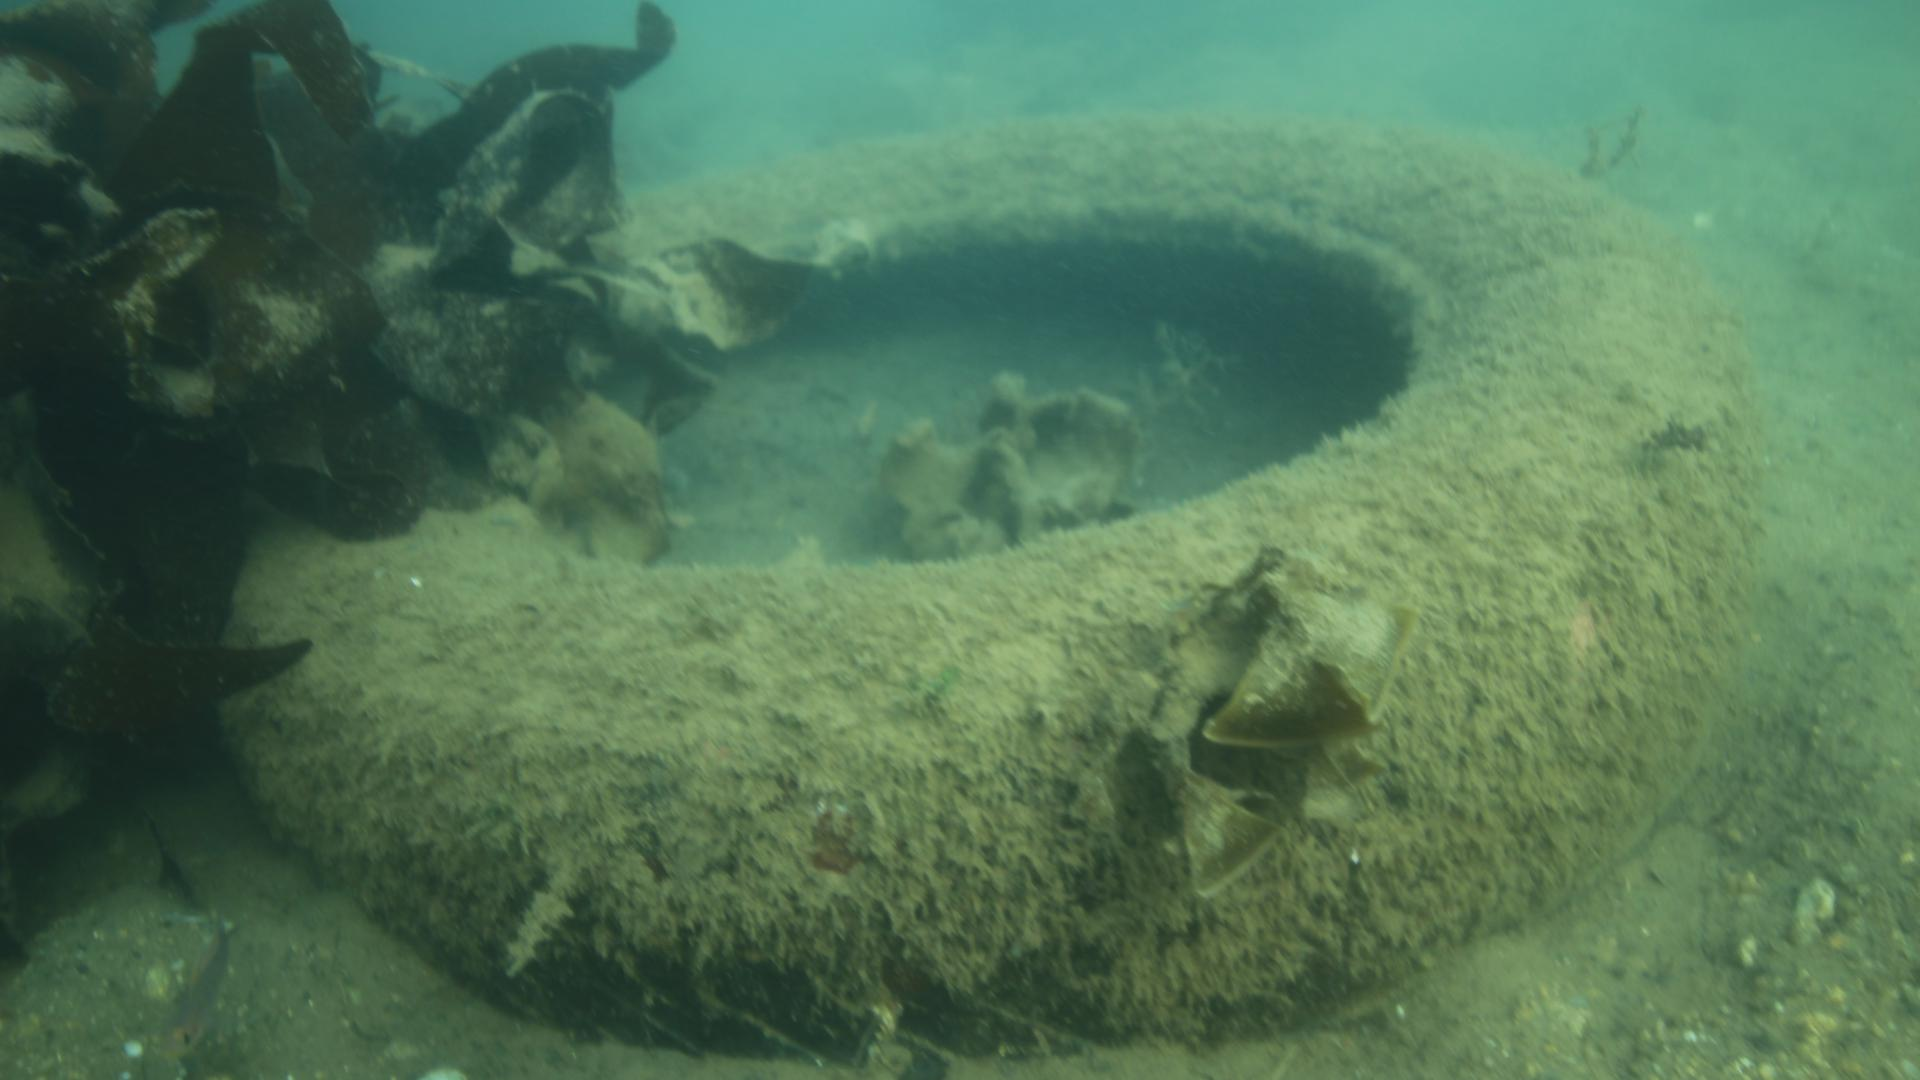tire: (203, 112, 1754, 1051)
